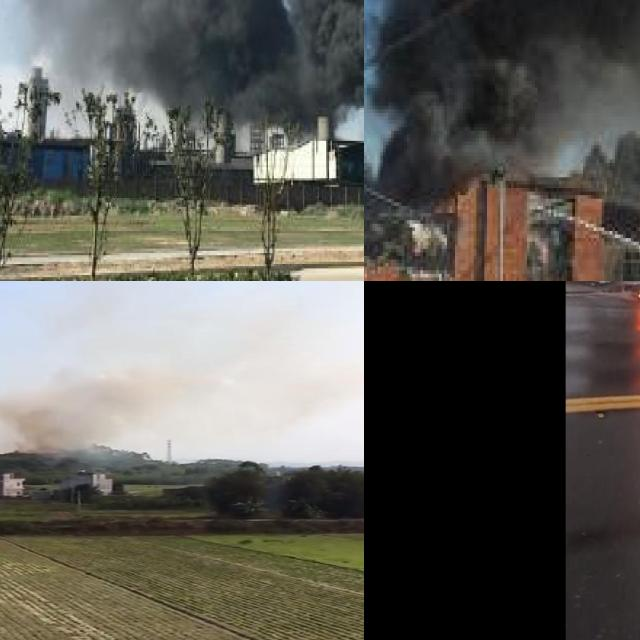smoke: (0, 281, 364, 451), (0, 0, 364, 147), (364, 0, 640, 177)
